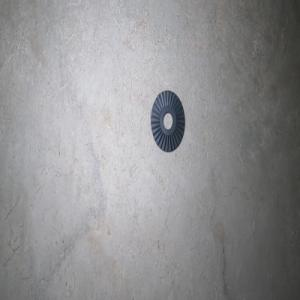Washer: (150, 90, 184, 151)
